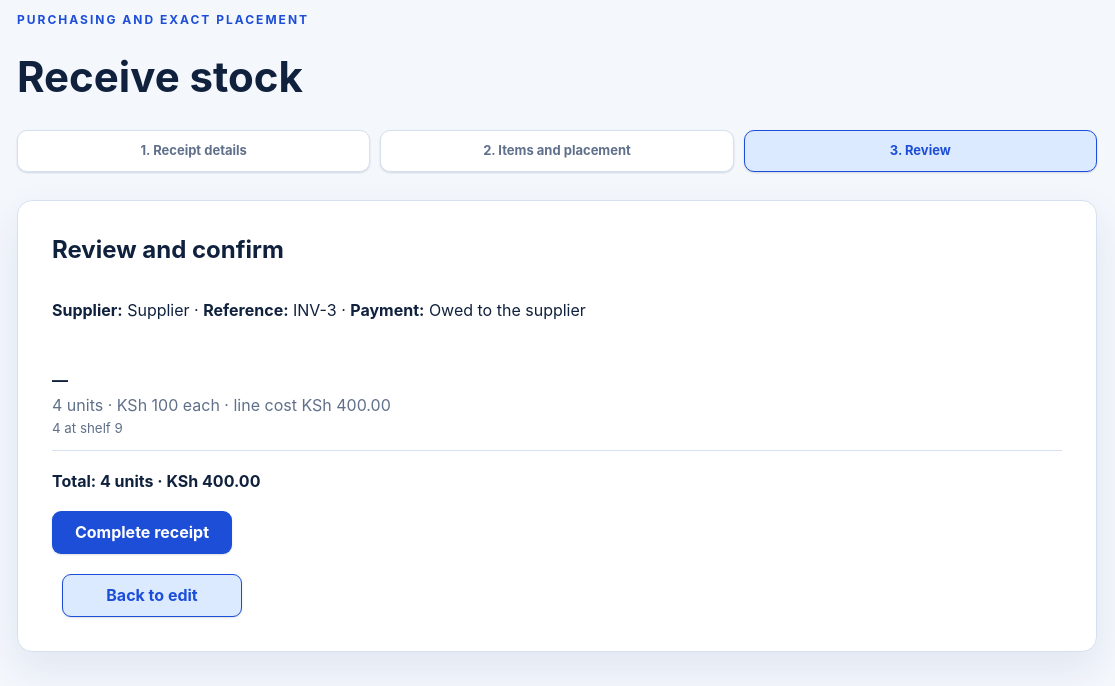
Test: restores review lines and placements, then clears a successfully submitted draft
Click the button "Complete receipt": (142, 532) [52, 511, 232, 554]
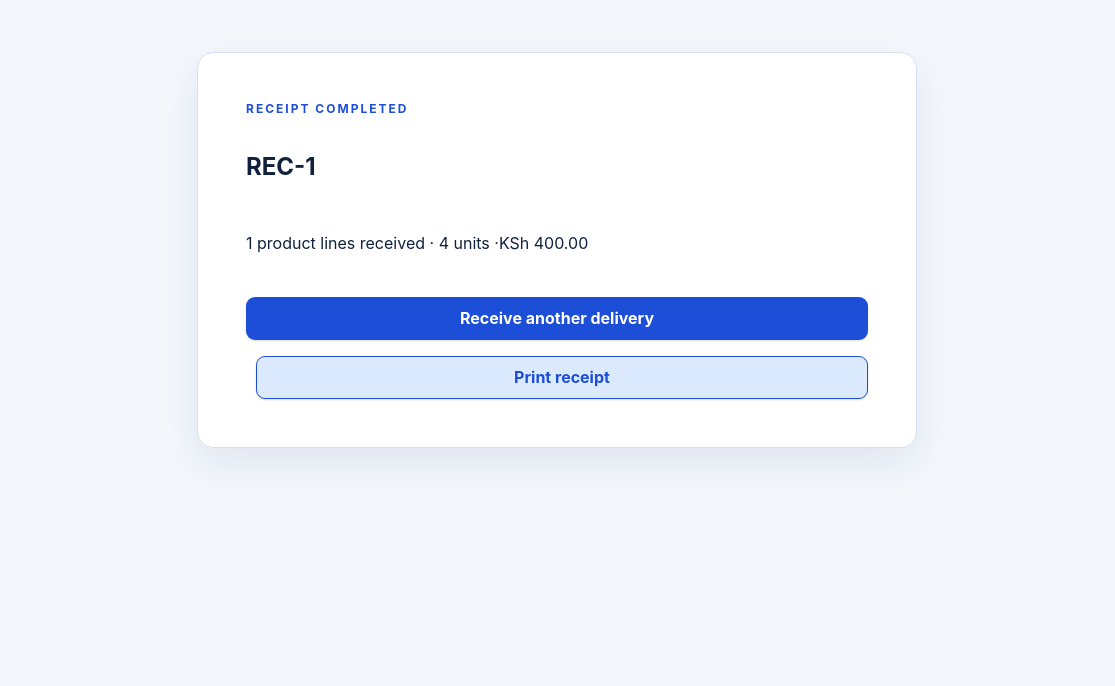
expect the heading "REC-1" is shown: met, box [246, 152, 316, 181]
